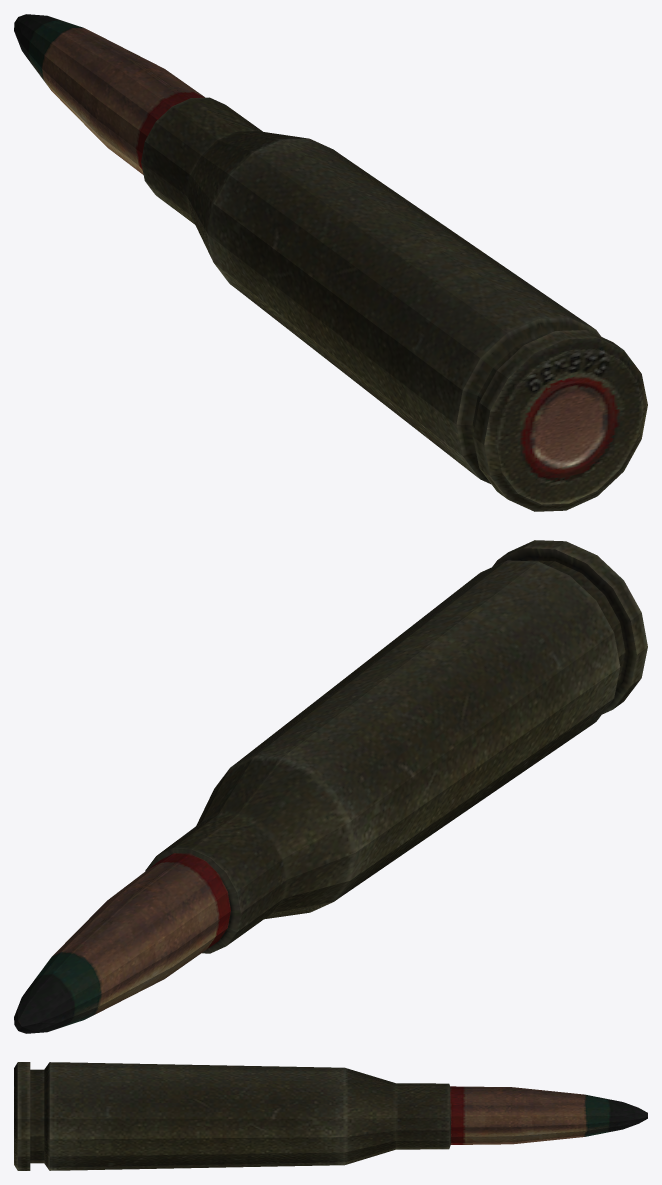
The picture shows the model from 3 angles, top to bottom: view 1: azimuth 30°, elevation 25°; view 2: azimuth 150°, elevation 25°; view 3: azimuth 270°, elevation 25°; orthographic projection. The views are drawn at different scales.
Parts seen in each view (by area): view 1: TW_56dff4ecd2720b5f5a8b4568_PZ_Import; view 2: TW_56dff4ecd2720b5f5a8b4568_PZ_Import; view 3: TW_56dff4ecd2720b5f5a8b4568_PZ_Import.
Part boxes in pixels (x1,y1,x2,y2): TW_56dff4ecd2720b5f5a8b4568_PZ_Import: (14,14,647,511); TW_56dff4ecd2720b5f5a8b4568_PZ_Import: (14,540,647,1033); TW_56dff4ecd2720b5f5a8b4568_PZ_Import: (14,1062,647,1170).
Bounding box in the file's own units: 0.00561 × 0.0327 × 0.00561.
1 material, 1 textured.
